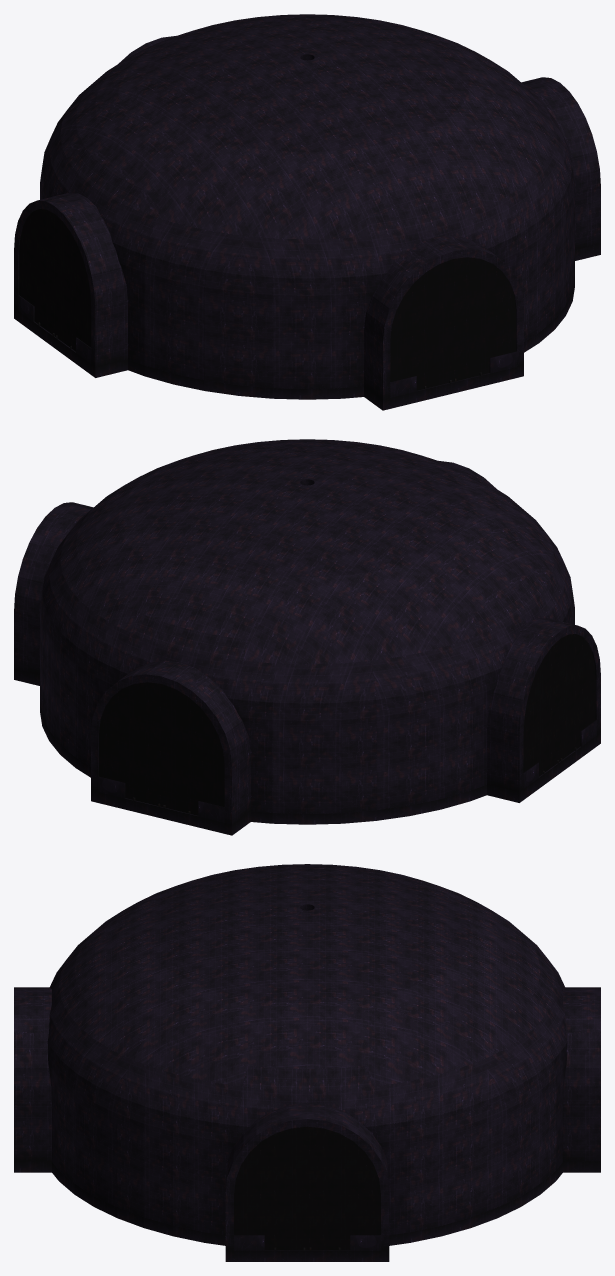
File: tunnel_junction.glb
3 views of the same model, one above another, from view 1: azimuth 30°, elevation 25°; view 2: azimuth 150°, elevation 25°; view 3: azimuth 270°, elevation 25° (orthographic).
Visible parts, largest first — view 1: body, opt_seal_2, opt_seal_3; view 2: body, opt_seal_0, opt_seal_3; view 3: body, opt_seal_1.
Part boxes in pixels (x1=…): body: x1=14, y1=14, x2=600, y2=410; opt_seal_2: x1=390, y1=257, x2=515, y2=390; opt_seal_3: x1=19, y1=209, x2=91, y2=351; body: x1=14, y1=439, x2=600, y2=835; opt_seal_0: x1=99, y1=682, x2=224, y2=815; opt_seal_3: x1=523, y1=634, x2=595, y2=776; body: x1=14, y1=864, x2=600, y2=1261; opt_seal_1: x1=234, y1=1126, x2=380, y2=1250.
Size of what is drawn, in the model's own units: 24.01 by 10.45 by 24.01.
Materials: 14 (9 with a texture image).
